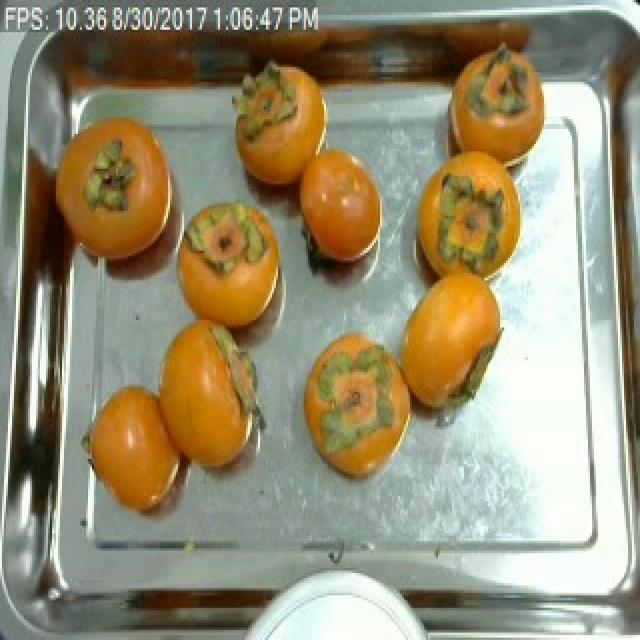Fruit: (46, 96, 190, 298), (294, 320, 420, 491), (390, 258, 508, 437), (78, 370, 206, 533), (168, 184, 290, 352), (434, 34, 560, 184), (414, 144, 532, 295), (288, 132, 394, 300), (126, 563, 288, 640)
